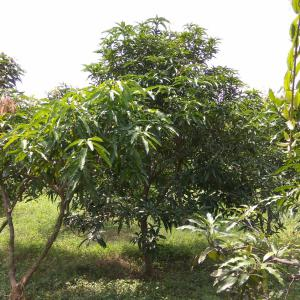Tree: (93, 18, 297, 276), (0, 84, 100, 290)
